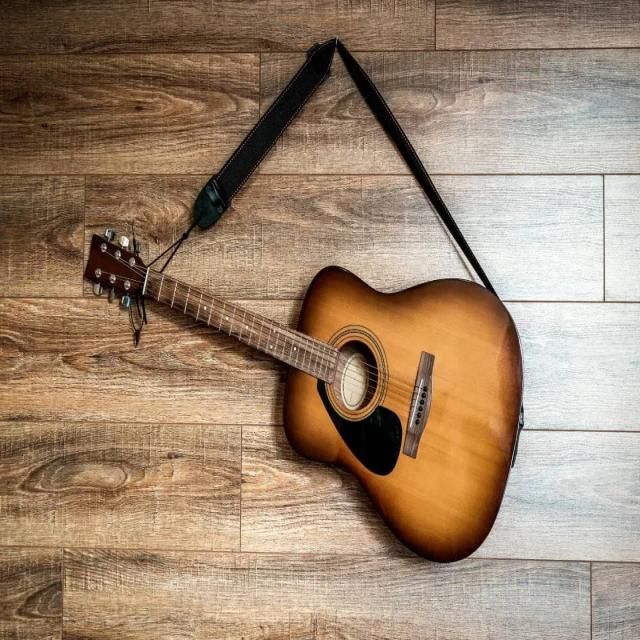guitar: (84, 192, 523, 561)
